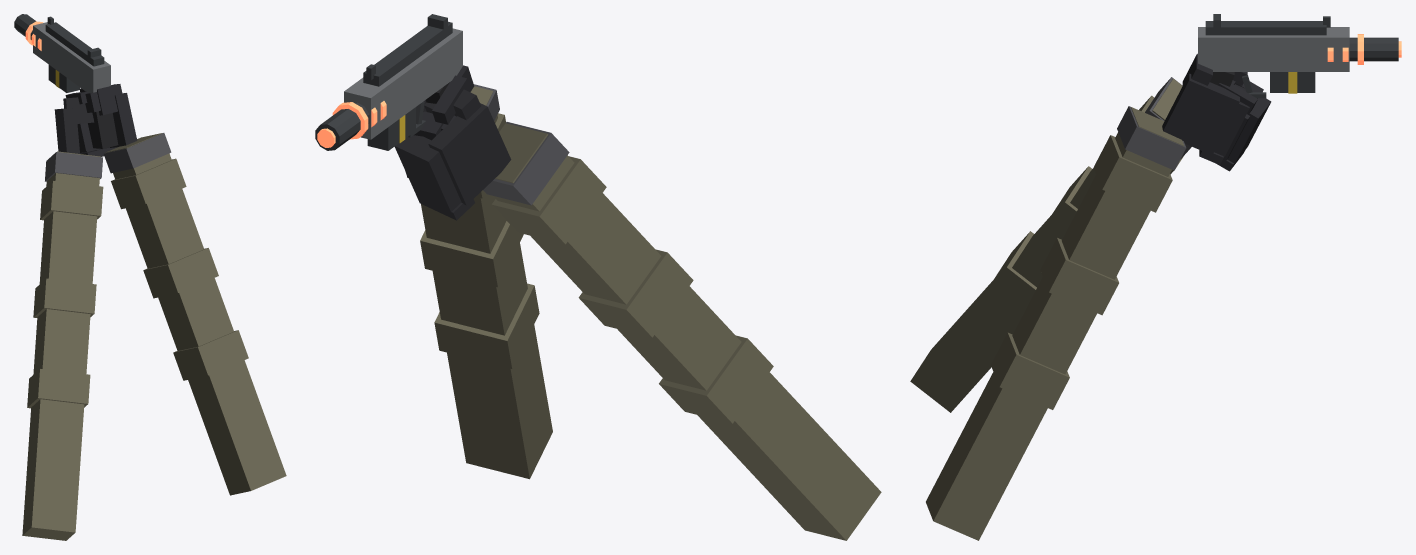
The model's file is laser.glb.
3 views of the same model, side by side, from view 1: azimuth 30°, elevation 25°; view 2: azimuth 150°, elevation 25°; view 3: azimuth 270°, elevation 25° (orthographic). The views are drawn at different scales.
Parts seen in each view (by area): view 1: XR_Forearm, XL_Forearm, X_Body, XR_Wrap2, XR_Wrap1, XR_Wrap0, XL_Wrap1, XL_Wrap0, XL_Wrap2, XR_Bracelet, XL_Bracelet, XL_Palm (+7 smaller); view 2: XL_Forearm, XR_Forearm, X_Body, XL_Palm, XL_Wrap0, XL_Wrap2, XL_Wrap1, XR_Wrap2, XR_Wrap1, XL_Fingers, XL_Bracelet, X_Rail (+3 smaller); view 3: XR_Forearm, XL_Forearm, X_Body, XR_Palm, XR_Wrap0, XR_Wrap1, XR_Wrap2, XR_Bracelet, X_Rail, XL_Wrap2, X_Emitter, XL_Wrap1 (+3 smaller).
Boxes of the visible parts, x1,y1,x2,y2 form: XR_Forearm: (105,133,286,495); XL_Forearm: (22,151,100,540); X_Body: (33,22,110,92); XR_Wrap2: (173,330,248,380); XR_Wrap1: (143,248,218,298); XR_Wrap0: (111,158,186,209); XL_Wrap1: (33,278,96,317); XL_Wrap0: (40,181,103,220); XL_Wrap2: (27,369,90,408); XR_Bracelet: (103,133,171,173); XL_Bracelet: (45,152,102,181); XL_Palm: (54,108,79,153); XL_Forearm: (493,123,881,540); XR_Forearm: (421,86,552,479); X_Body: (344,28,462,139); XL_Palm: (428,103,511,205); XL_Wrap0: (492,156,606,244); XL_Wrap2: (659,335,773,423); XL_Wrap1: (578,249,693,337); XR_Wrap2: (434,283,539,368); XR_Wrap1: (420,221,523,287); XL_Fingers: (394,135,461,211); XL_Bracelet: (483,122,569,205); X_Rail: (363,21,452,86); XR_Forearm: (926,107,1184,540); XL_Forearm: (910,79,1182,412); X_Body: (1198,27,1349,71); XR_Palm: (1162,73,1239,155); XR_Wrap0: (1093,135,1172,212); XR_Wrap1: (1040,238,1118,315); XR_Wrap2: (991,332,1069,409); XR_Bracelet: (1117,106,1186,170); X_Rail: (1205,21,1326,35); XL_Wrap2: (988,231,1036,315); X_Emitter: (1349,37,1398,61); XL_Wrap1: (1046,166,1091,236).
Size of the model in its own units: 0.4905 by 0.7017 by 0.6494.
